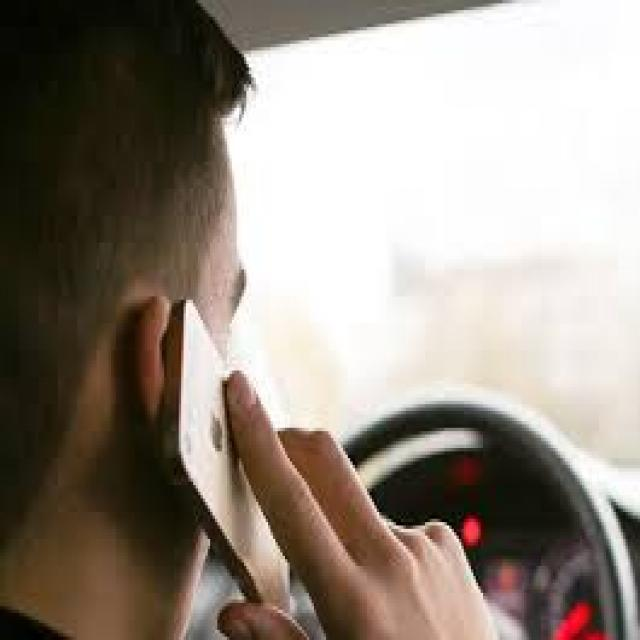Cellphone_calling: (118, 262, 350, 640)
